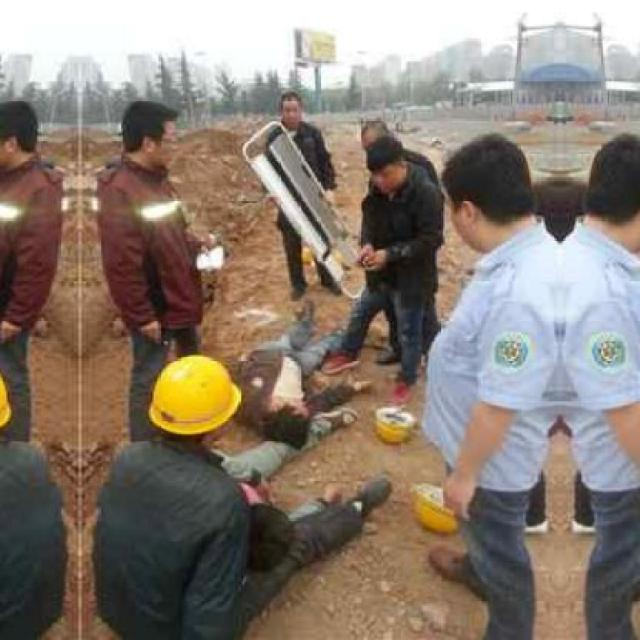helmet: (147, 351, 240, 434)
nohelmet: (439, 132, 536, 253), (121, 99, 181, 170), (366, 137, 404, 201), (269, 396, 313, 447), (279, 93, 307, 129)
